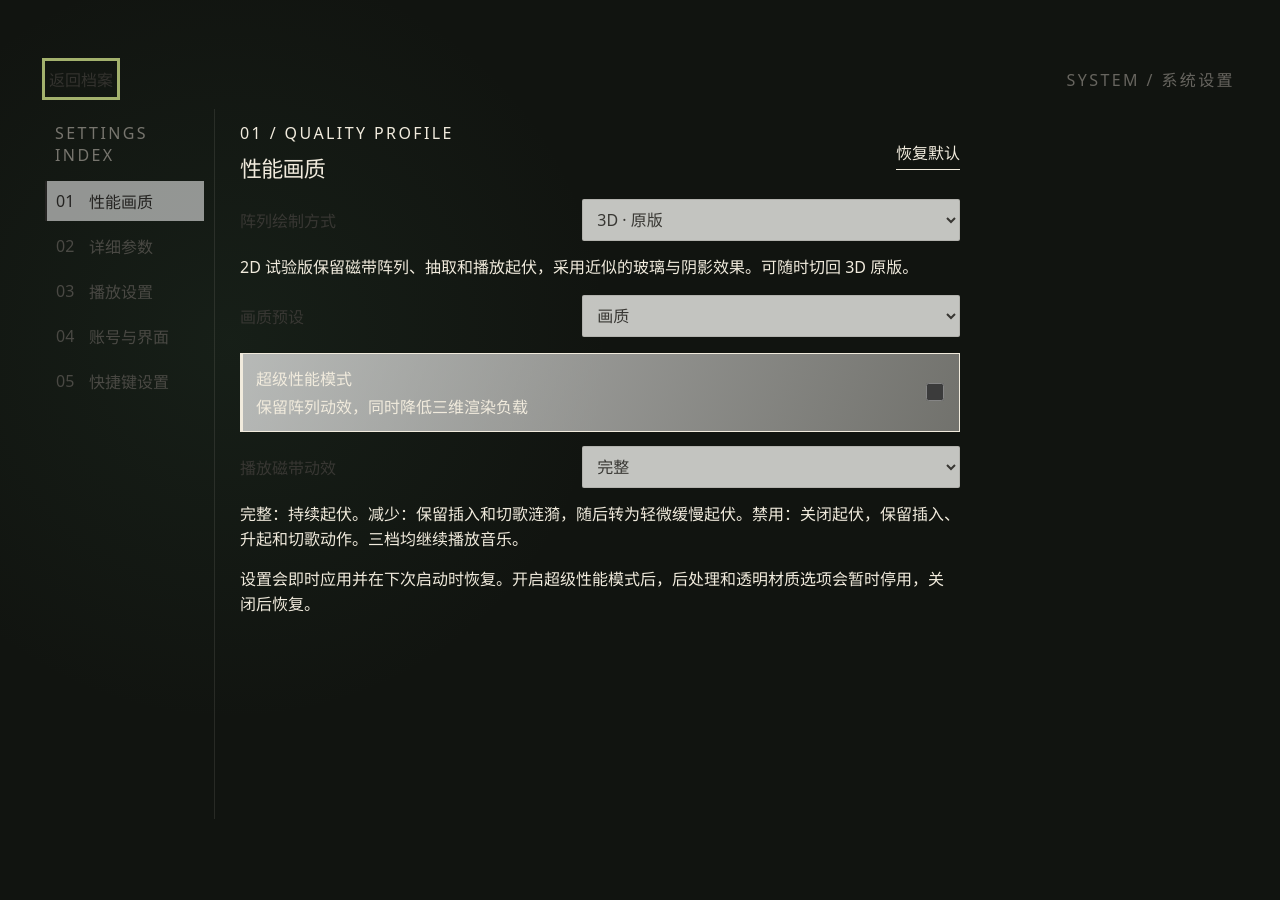
Test case: 浏览器展示入口但不伪装成可保存的原生设置
The image size is (1280, 900).
Click the button "03 播放设置" at (124, 291), box [45,271,204,311]
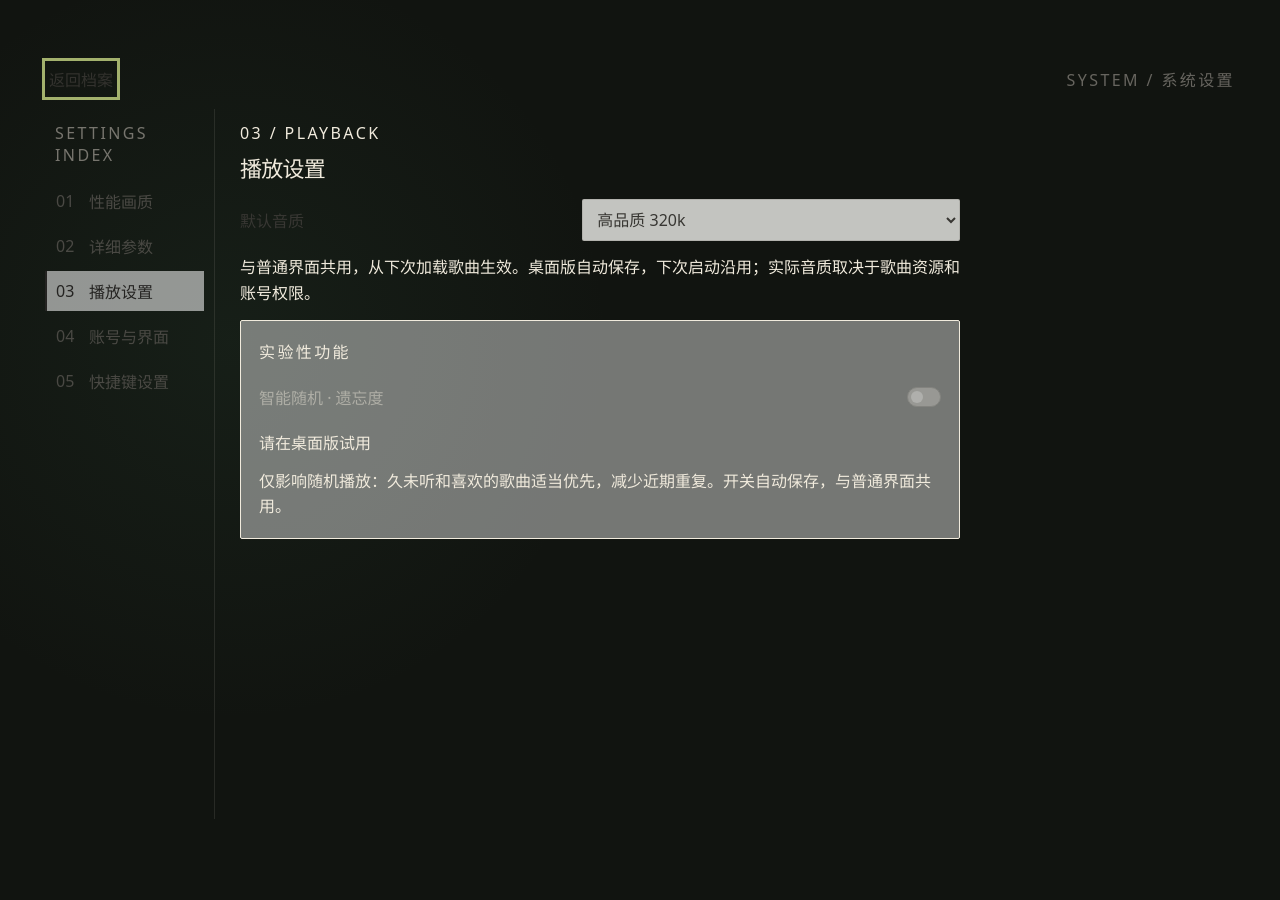
Check: the switch labelled "智能随机 · 遗忘度" is disabled, box [259,375,941,419]
Check: the message reads "请在桌面版试用", box [259,432,371,454]
